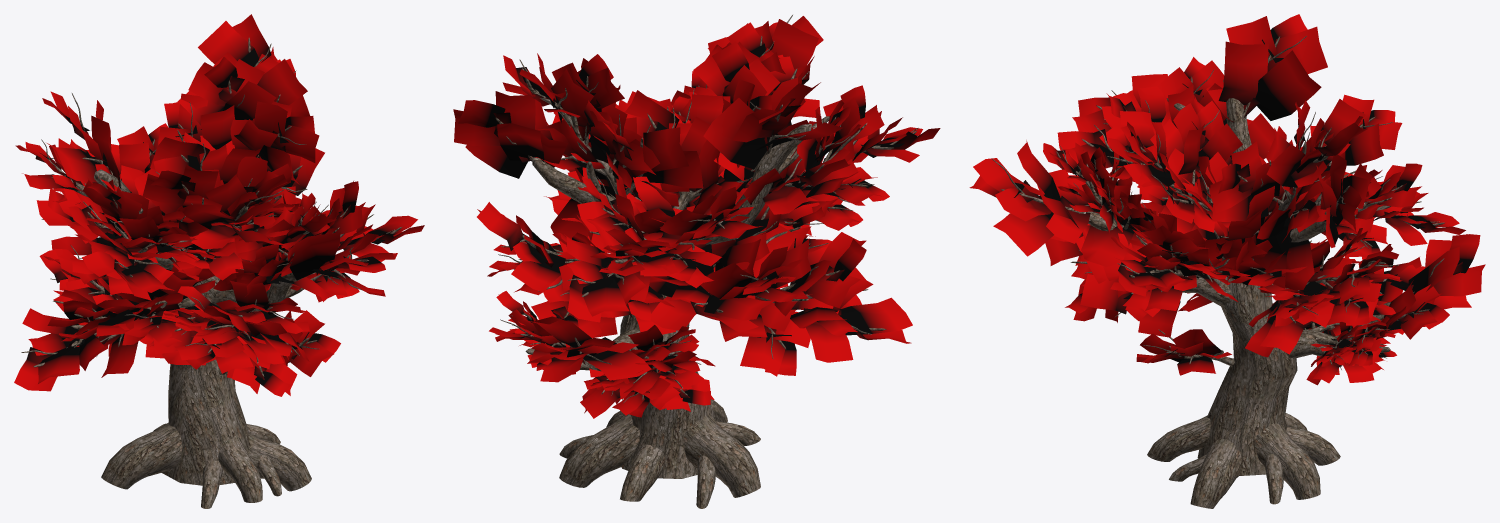
File: SM_LargeOak_1.fbx
3 renders of one model, left to right at view 1: azimuth 30°, elevation 25°; view 2: azimuth 150°, elevation 25°; view 3: azimuth 270°, elevation 25°, orthographic. The views are drawn at different scales.
Parts seen in each view (by area): view 1: bigOak_tree_1; view 2: bigOak_tree_1; view 3: bigOak_tree_1.
Part boxes in pixels (x1,y1,x2,y2): bigOak_tree_1: [14, 14, 424, 508]; bigOak_tree_1: [453, 15, 940, 508]; bigOak_tree_1: [969, 14, 1485, 508].
Bounding box in the file's own units: 14.18 × 15.25 × 17.71.
